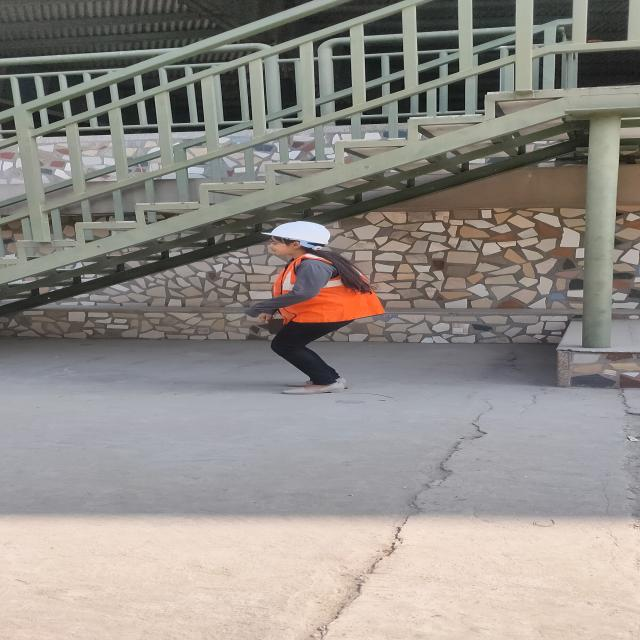safe: (245, 221, 384, 394)
